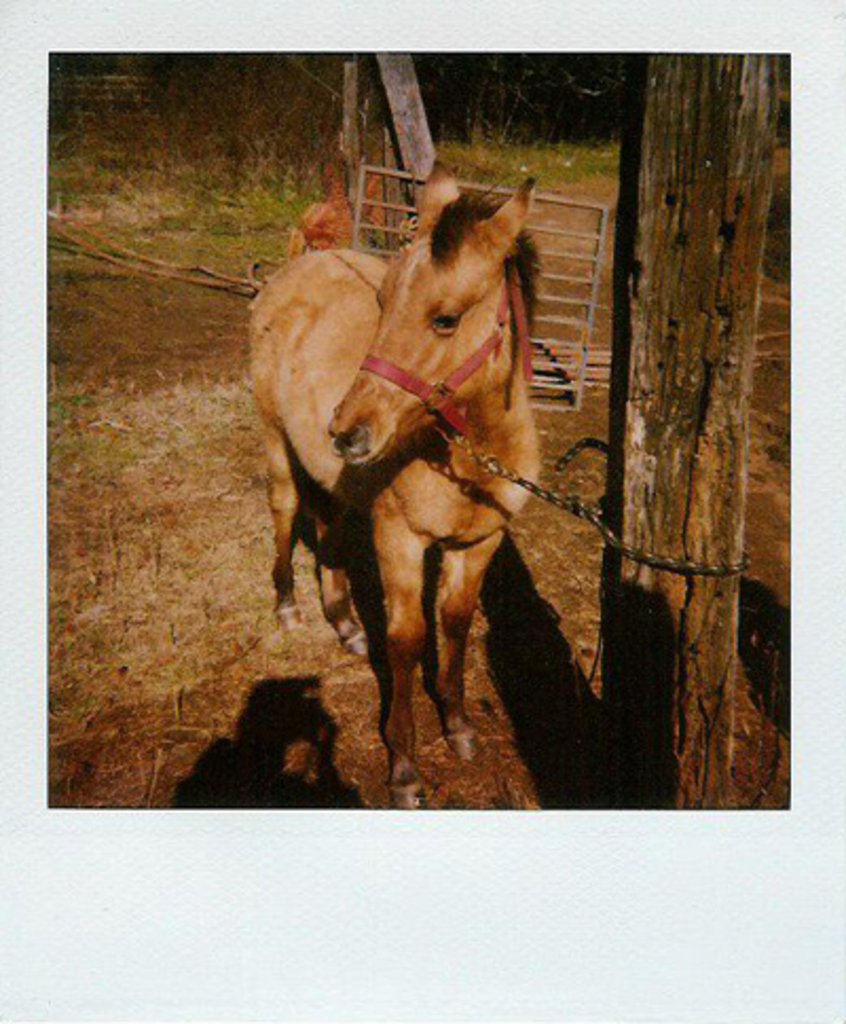horse: (249, 156, 547, 814)
